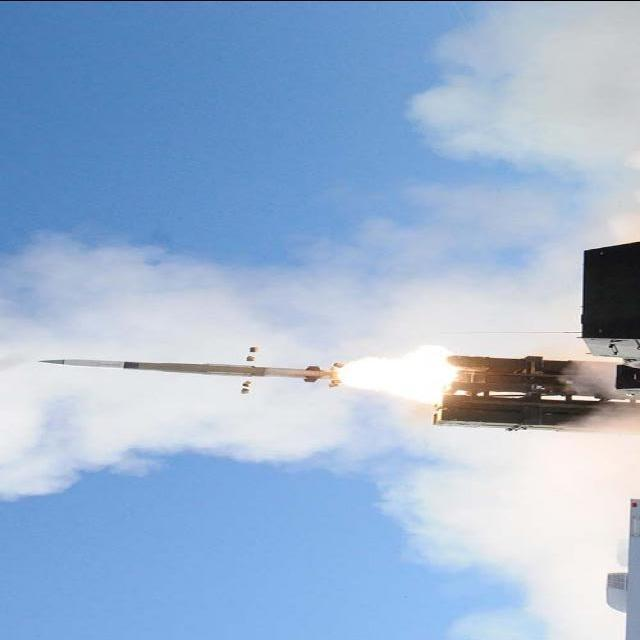missile: (39, 348, 343, 397)
